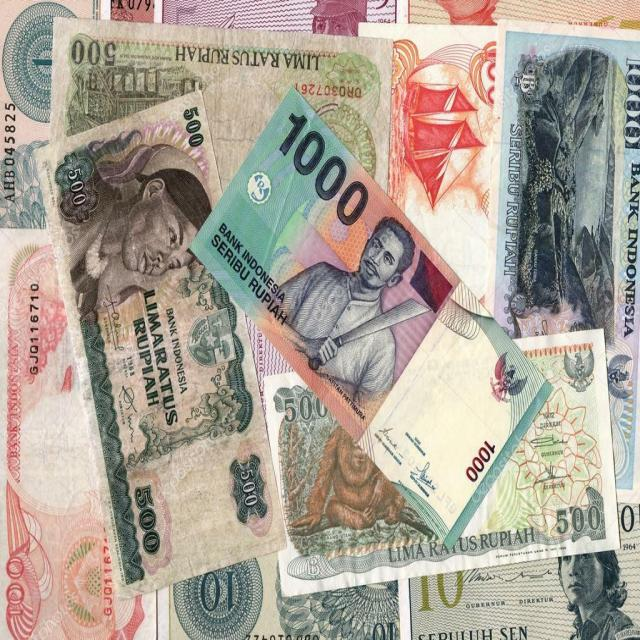1000IndonesianRupiah: (219, 116, 495, 461)
